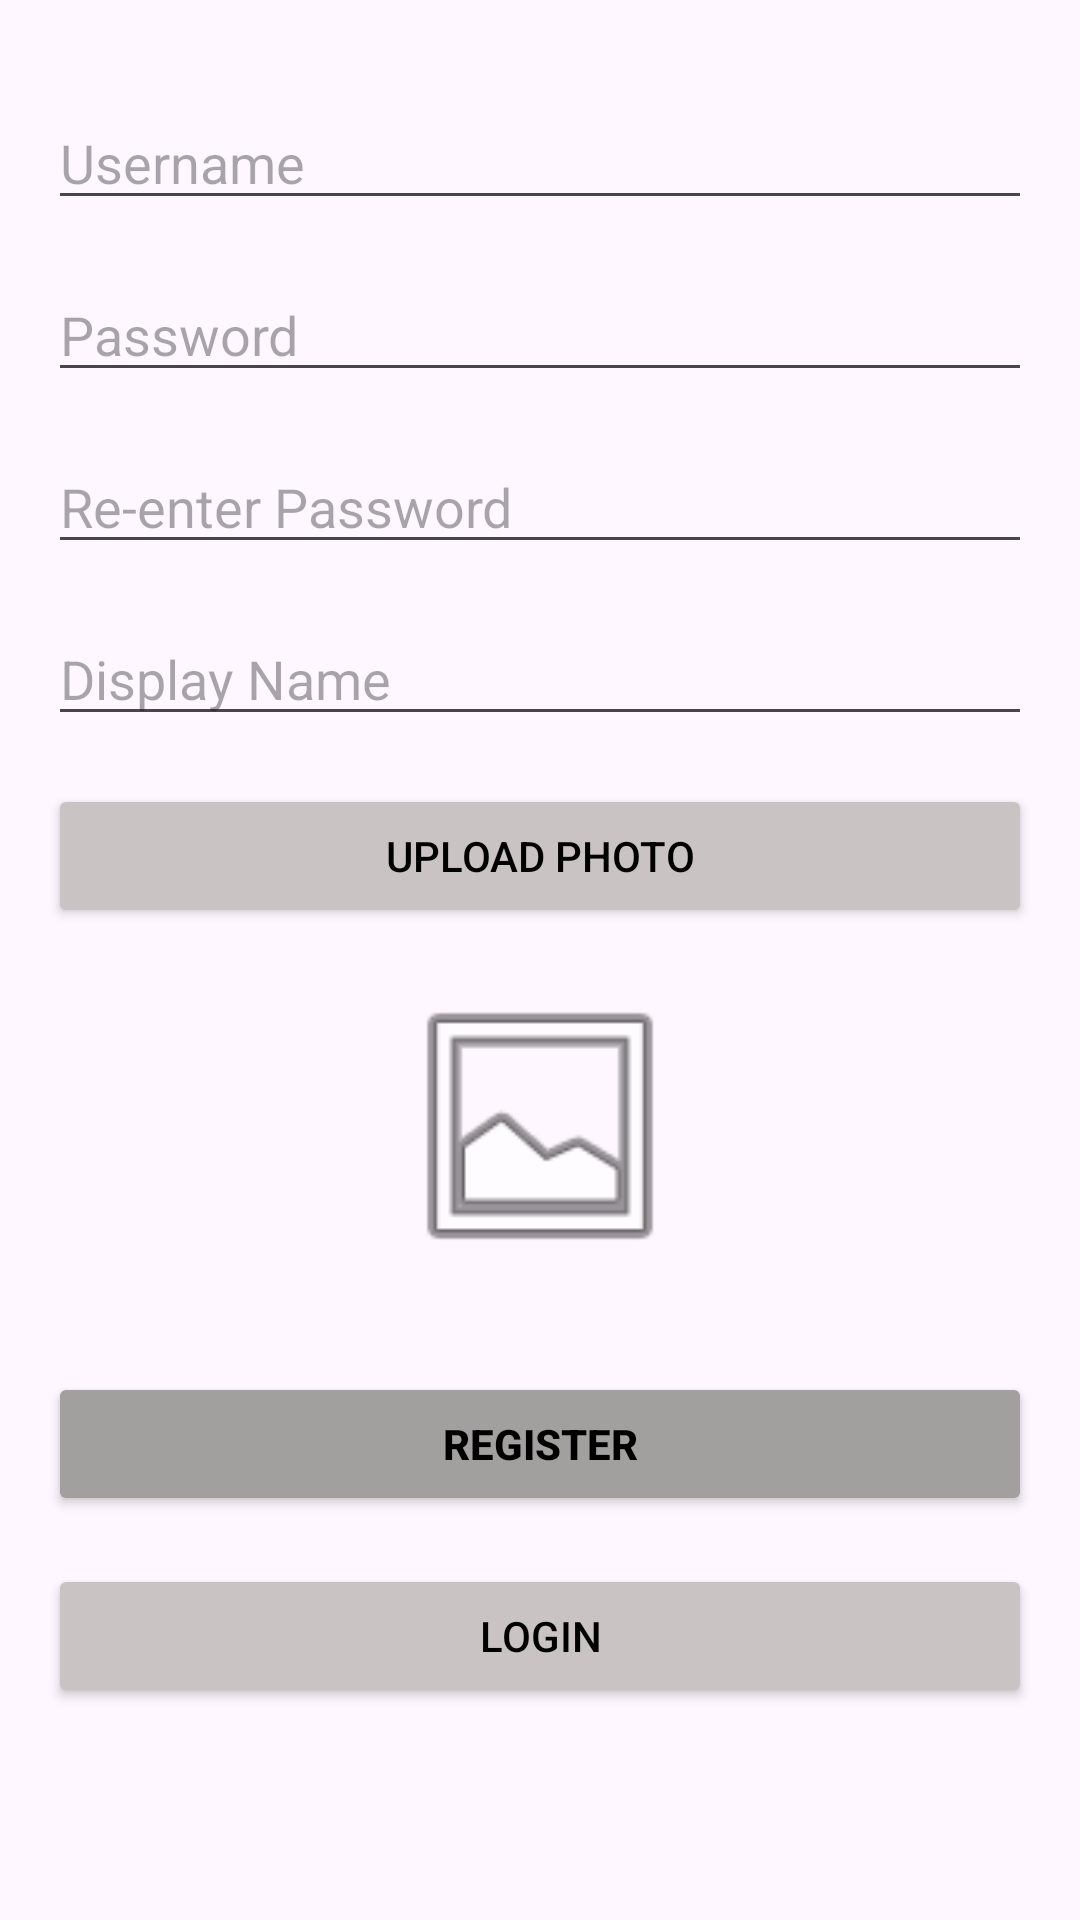

Icons on this 1080px x 1920px Android screen, each with its box as (x1, y1, x2, y2):
gallery: (427, 1013, 653, 1239)
